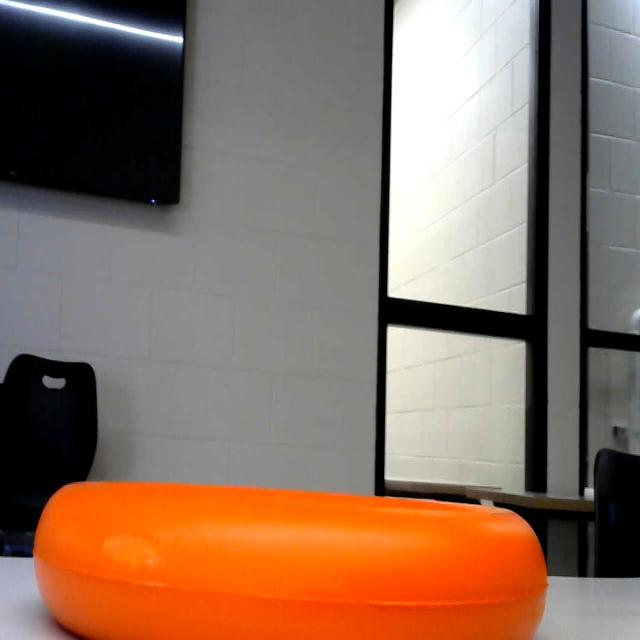note: (26, 482, 574, 640)
